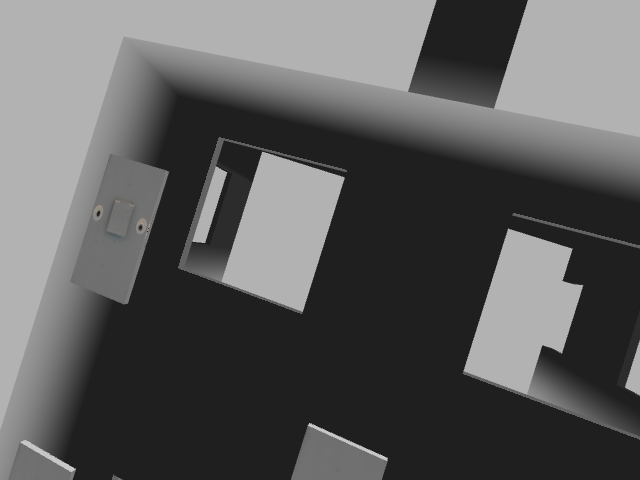facade: (91, 198, 147, 240)
